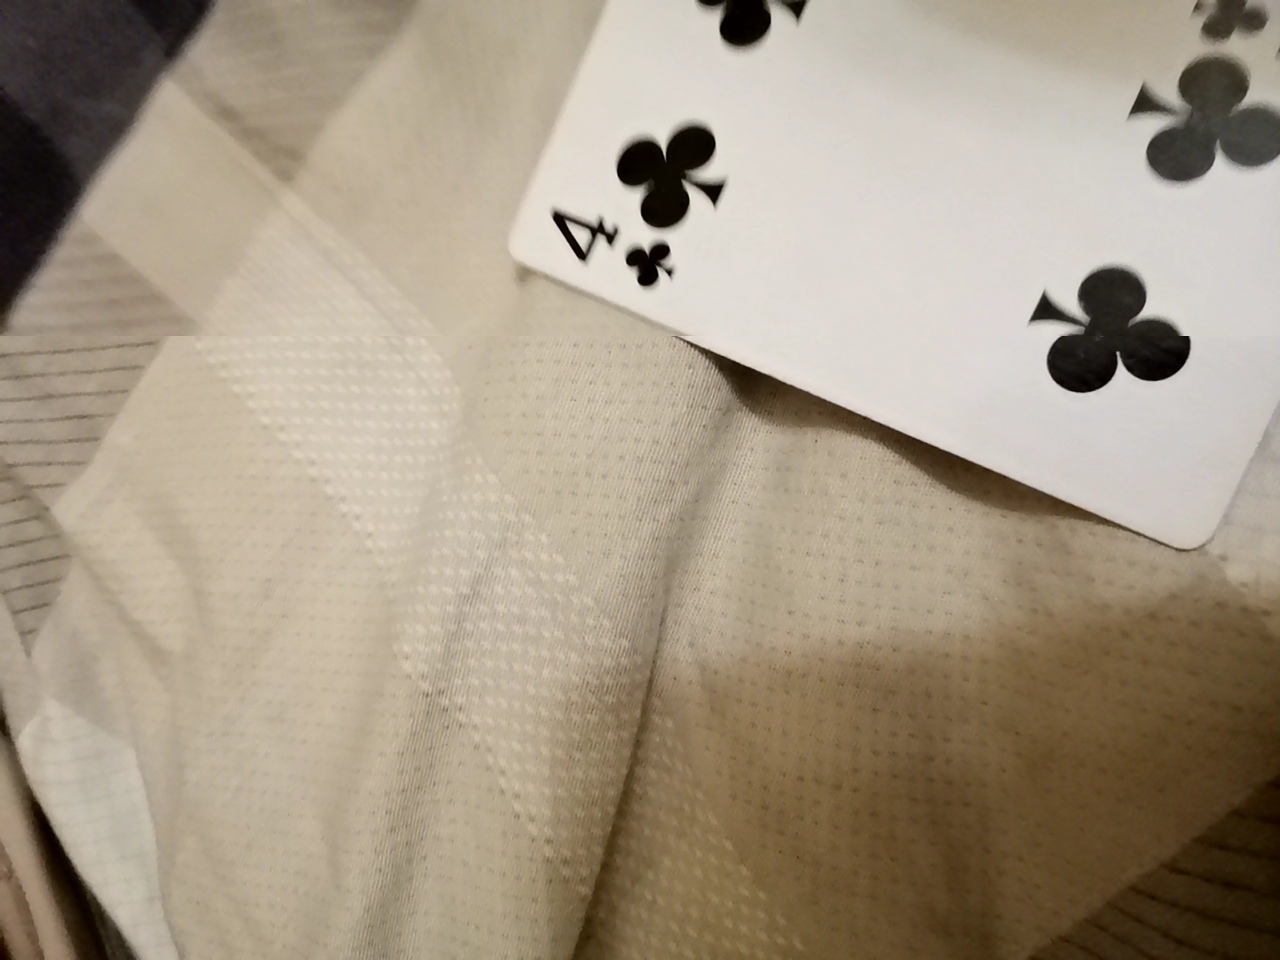mh 4: (502, 0, 1278, 543)
